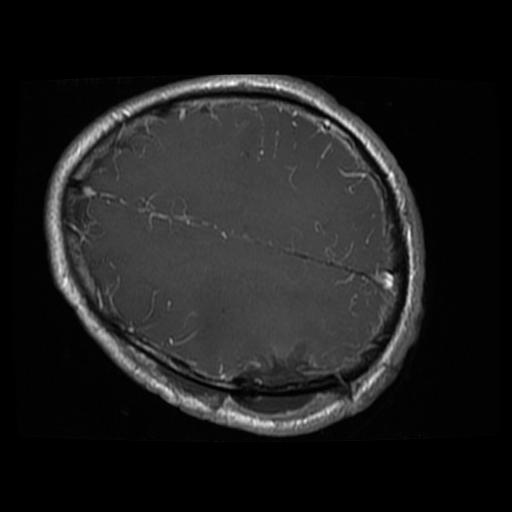glioma: (225, 341, 317, 417)
